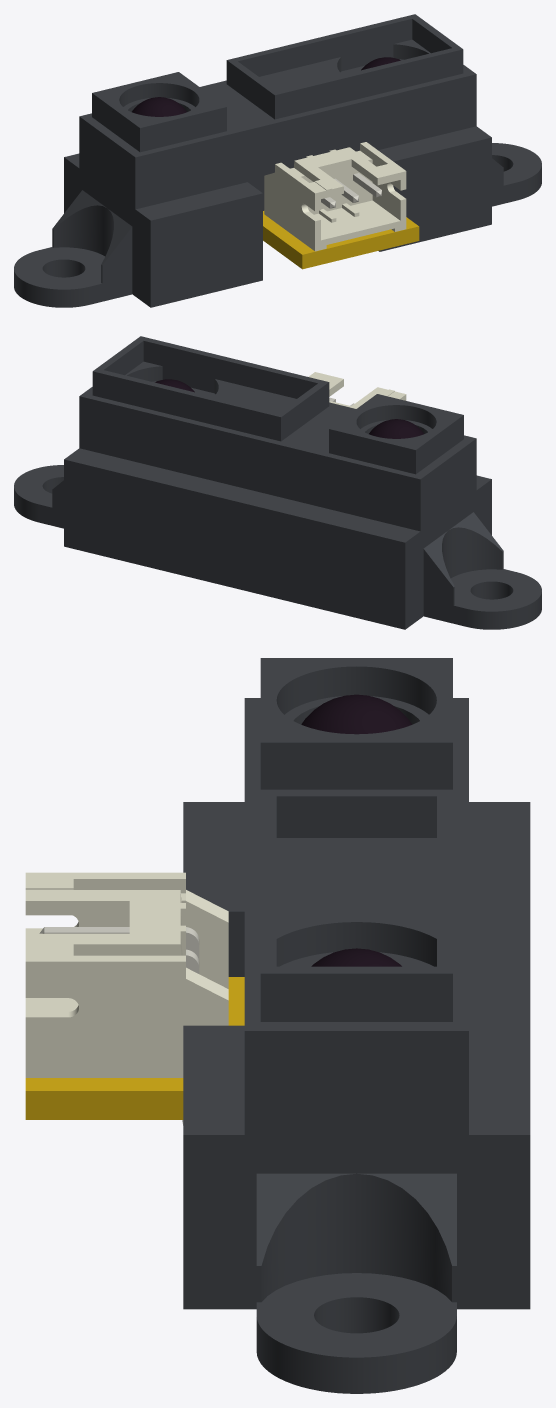
Rendered from sharp_gp2y0a41sk0f.glb.
The picture shows the model from 3 angles, top to bottom: view 1: azimuth 30°, elevation 25°; view 2: azimuth 150°, elevation 25°; view 3: azimuth 270°, elevation 25°; orthographic projection. The views are drawn at different scales.
Visible parts, largest first — view 1: sensor_gp2y0a41; view 2: sensor_gp2y0a41; view 3: sensor_gp2y0a41.
Part boxes in pixels (x1,y1,x2,y2): sensor_gp2y0a41: [14, 14, 541, 307]; sensor_gp2y0a41: [14, 336, 541, 629]; sensor_gp2y0a41: [25, 658, 530, 1393].
Size of the model in its own units: 0.0445 by 0.0135 by 0.0189.
